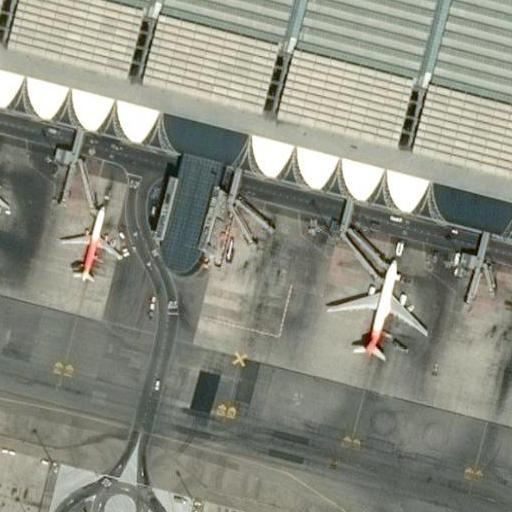Aircraft: (324, 254, 427, 361), (59, 204, 124, 281), (0, 164, 9, 227)
